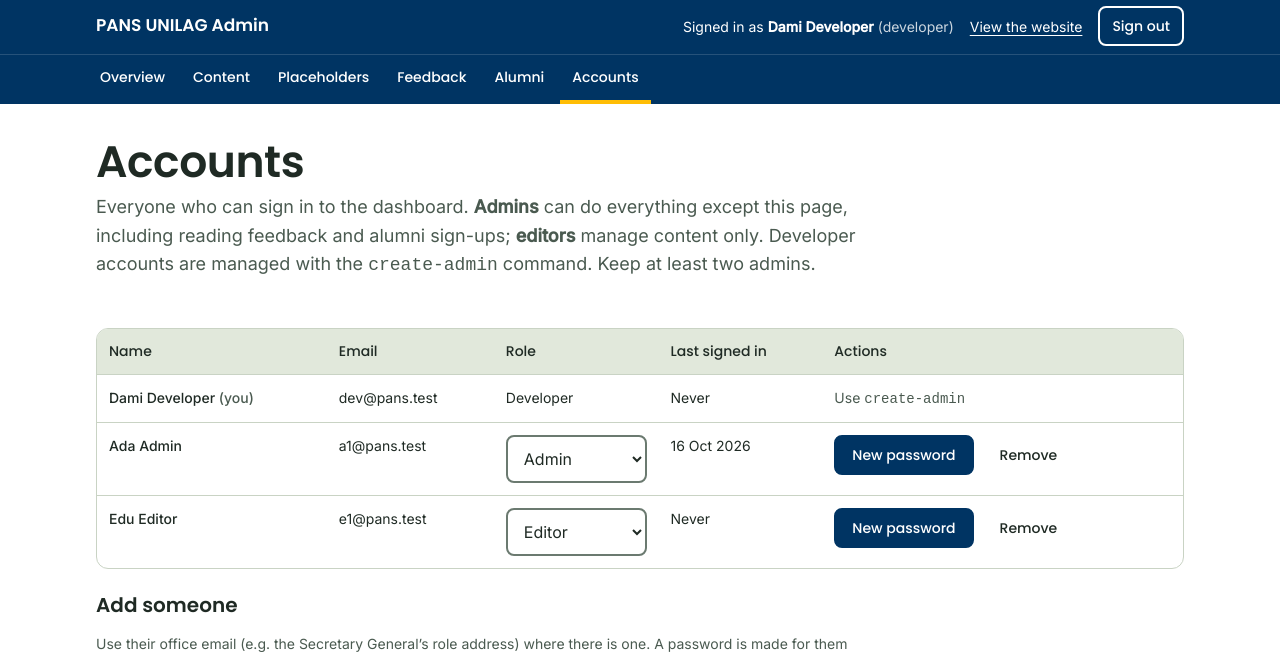
Test: Accounts page › asks before a new password or removal, then does it
Check: the table named "Dashboard accounts" is shown, box [97,329,1183,568]
Click the button with aria-label "New password for Ada Admin".
click(904, 455)  # box [834,435,974,475]
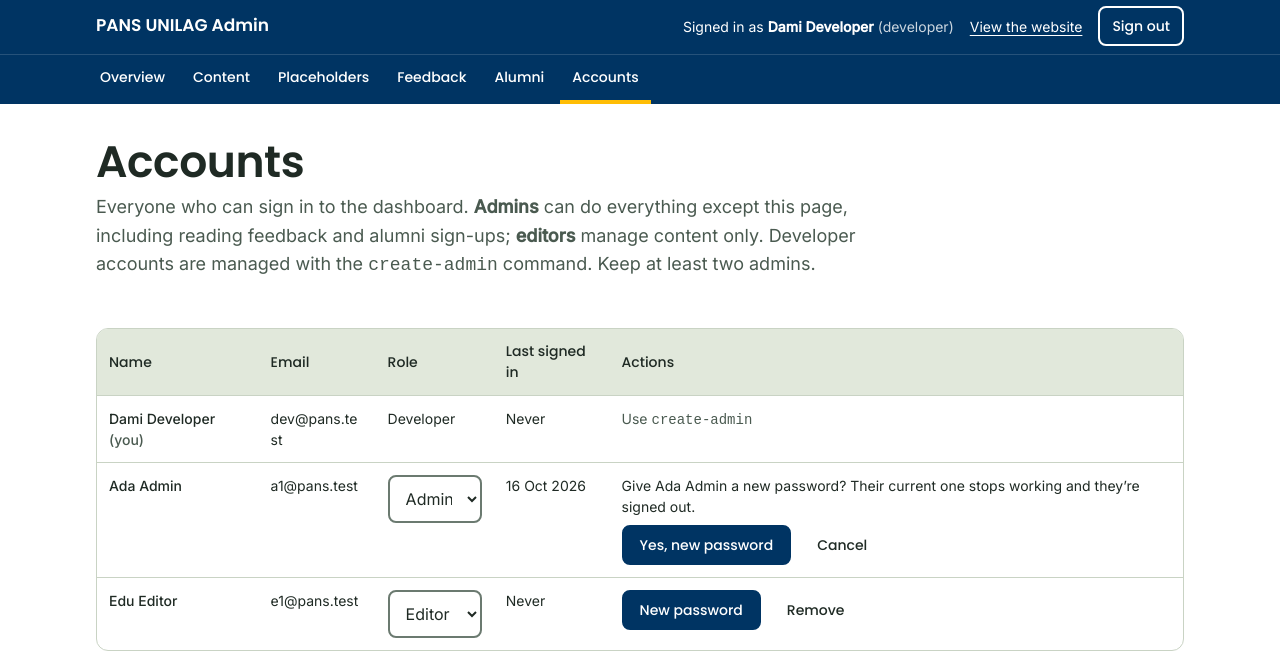
Click the button "Yes, new password".
click(706, 545)  # box [622,525,791,565]
(page scrolled)
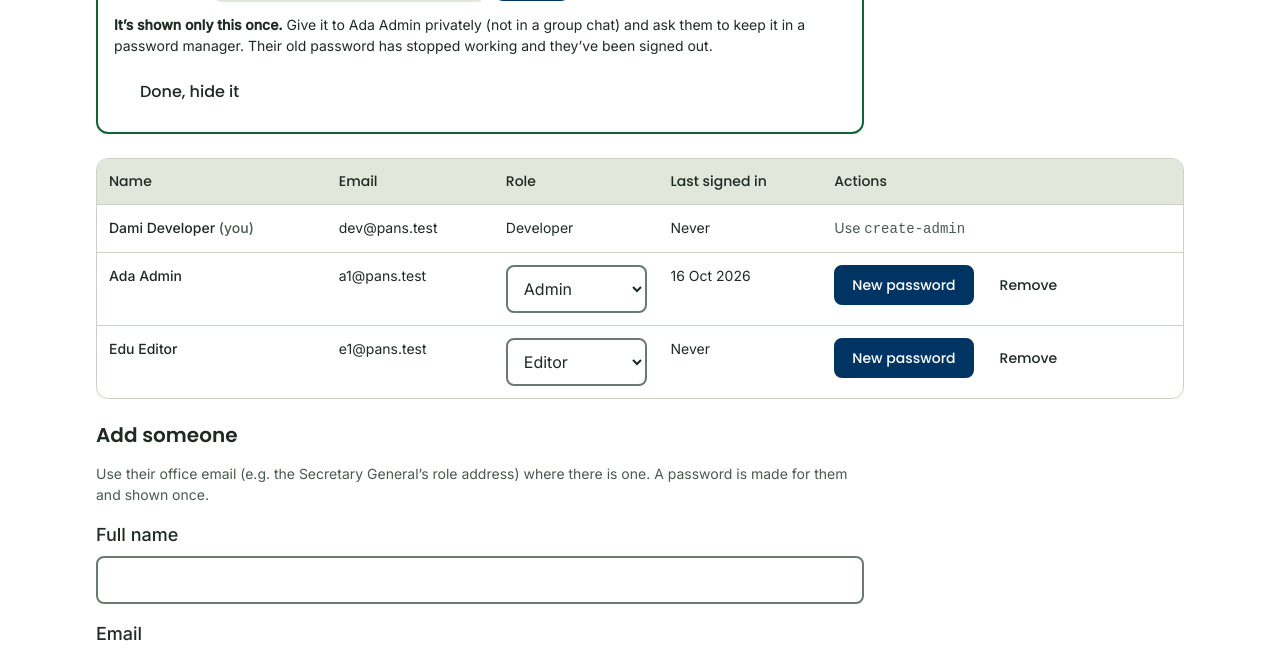
Check: the text "signed out" is shown, box [244,37,713,54]
Click the button with aria-label "Remove Edu Editor".
click(1028, 358)  # box [982,338,1075,378]
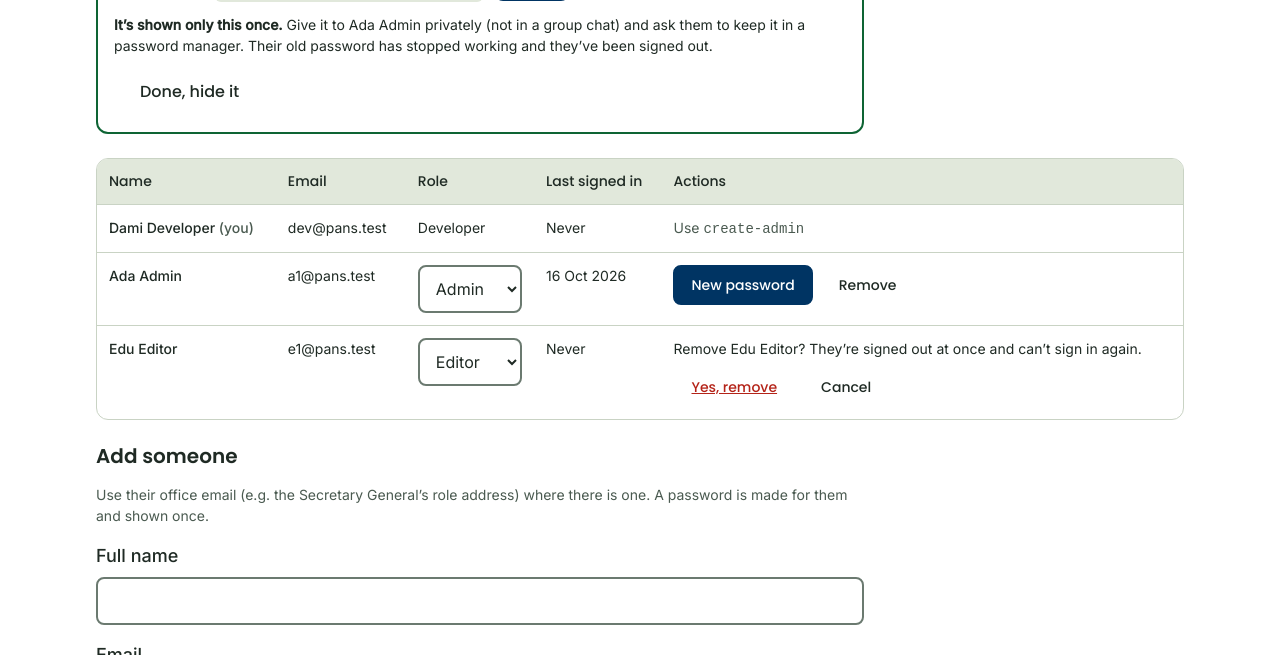
Click the button "Yes, remove".
click(734, 387)  # box [674,367,795,407]
(page scrolled)
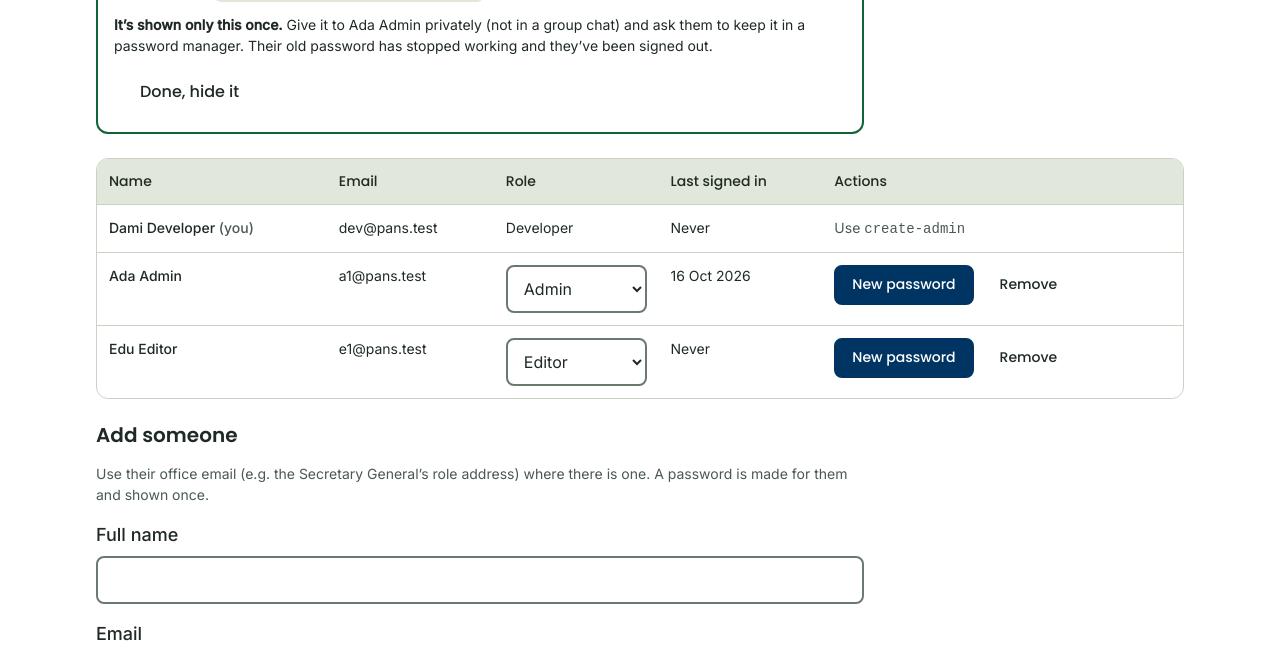
Select "Editor" in the dropdown named "Role for Ada Admin" at (576, 289), box [506,265,646,313]
(page scrolled)
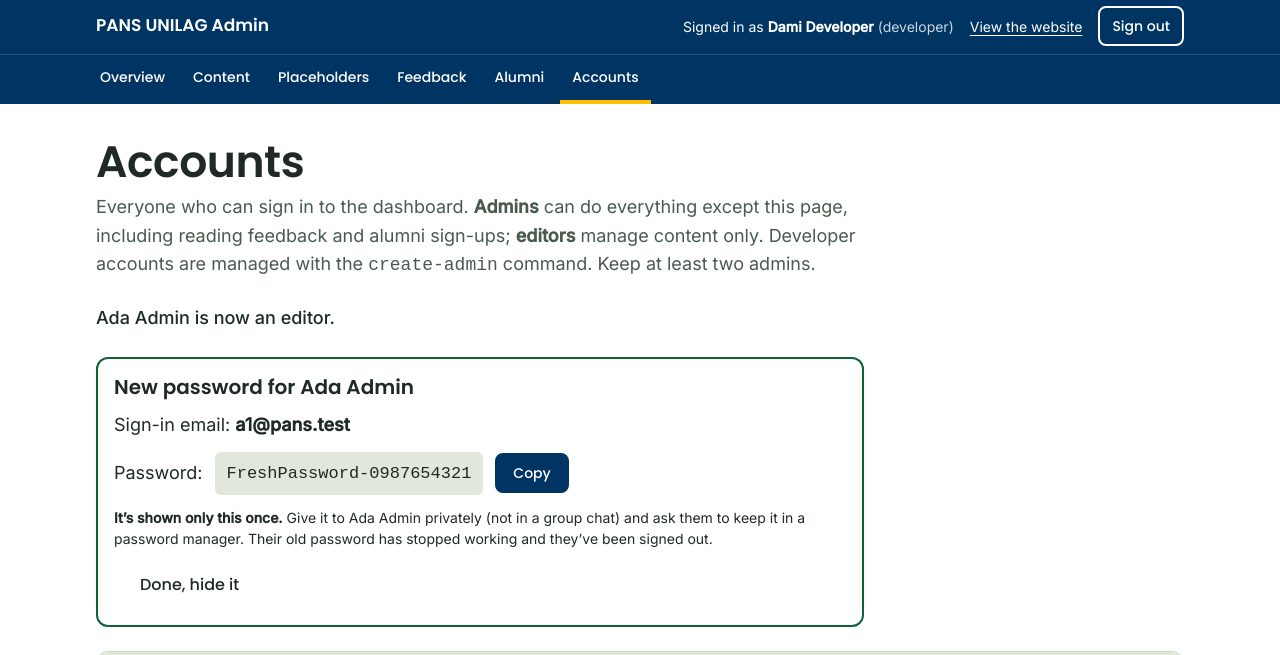
Check: the text "Ada Admin is now an editor." is shown, box [96,307,335,328]
